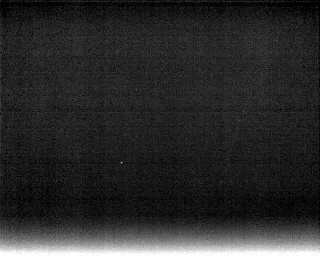AIRPLANE: (118, 158, 125, 167)
